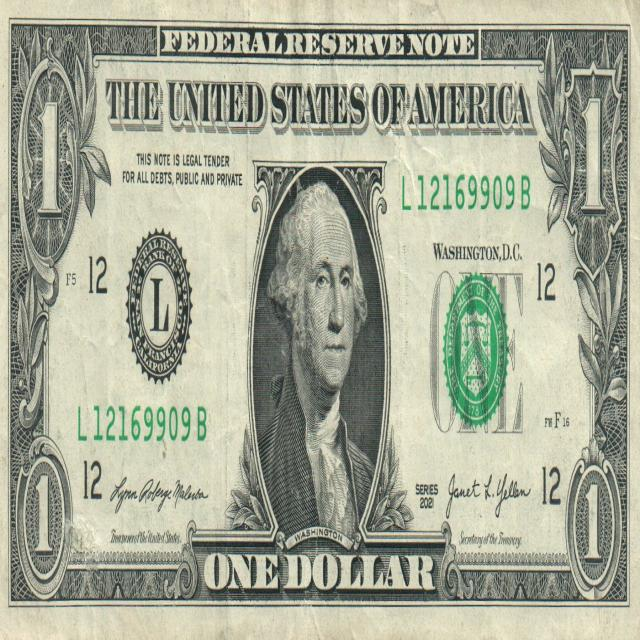SerialNumber: (417, 174, 530, 210), (93, 406, 206, 441)
